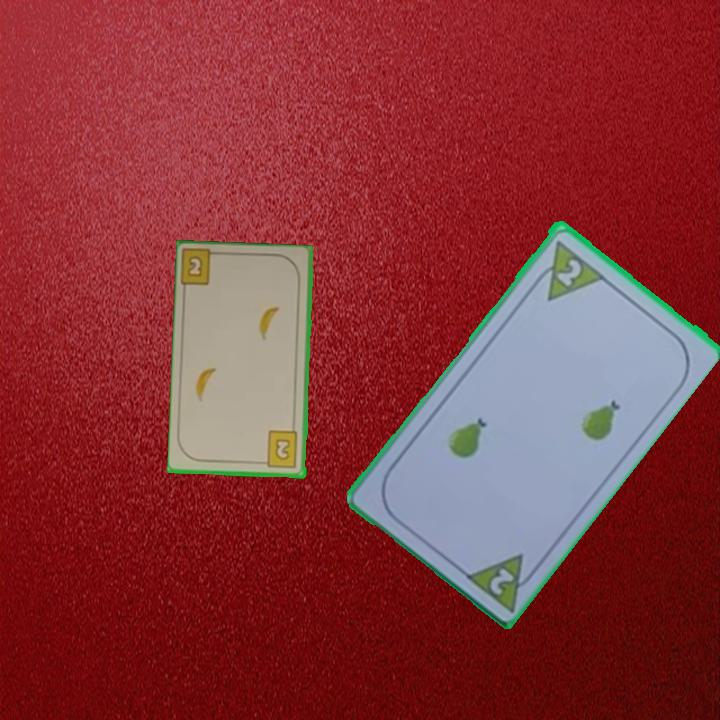2b: (179, 248, 225, 290), (258, 428, 301, 471)
2p: (553, 254, 585, 289), (485, 563, 517, 598)
